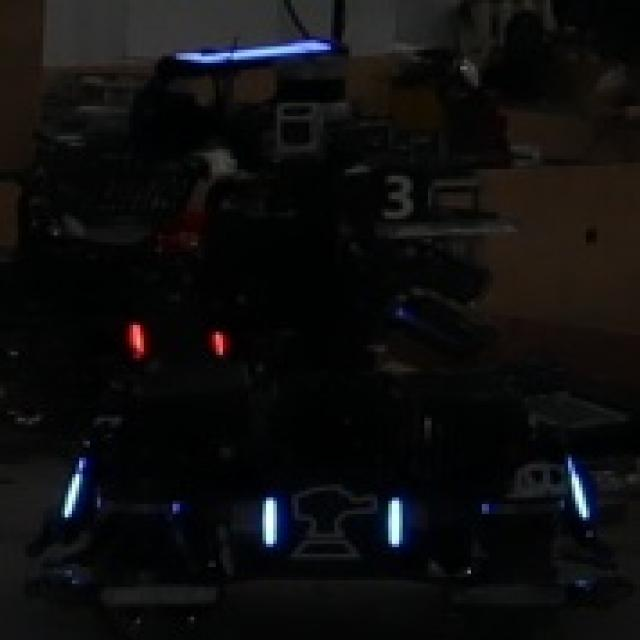Bs: (255, 478, 410, 564)
